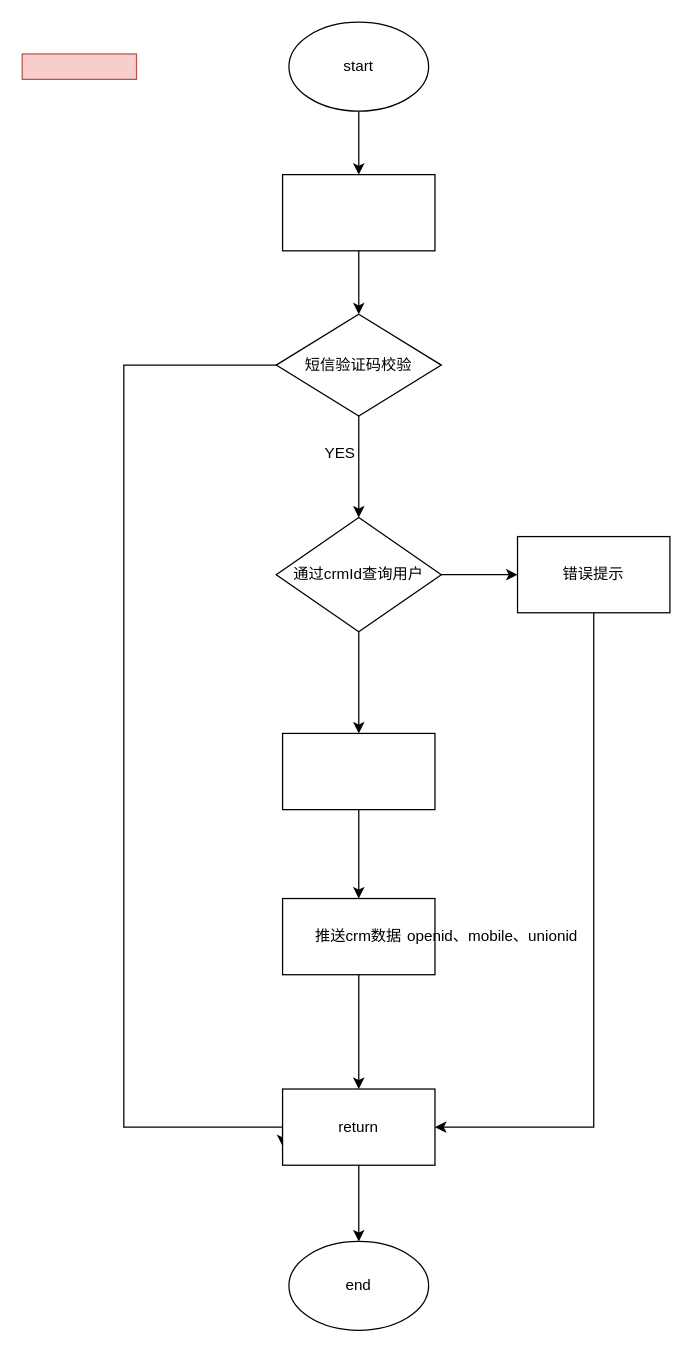
This 692x1353 diagram has some shape labels left out. Here are the shapes that lost their labels. From the top down, the box of each, then its label:
(21, 53, 137, 79): 用户注册登录
(281, 173, 435, 251): 获取到crmId
(281, 732, 435, 810): 入db
